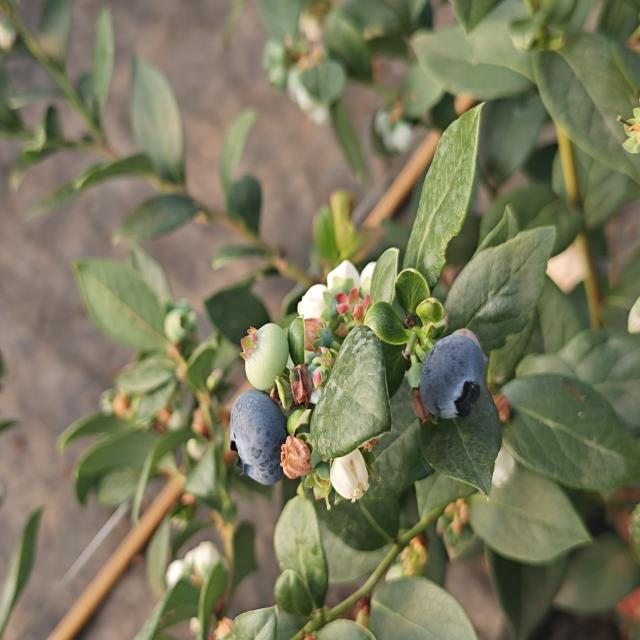ripe: (412, 319, 494, 434), (224, 384, 296, 491)
